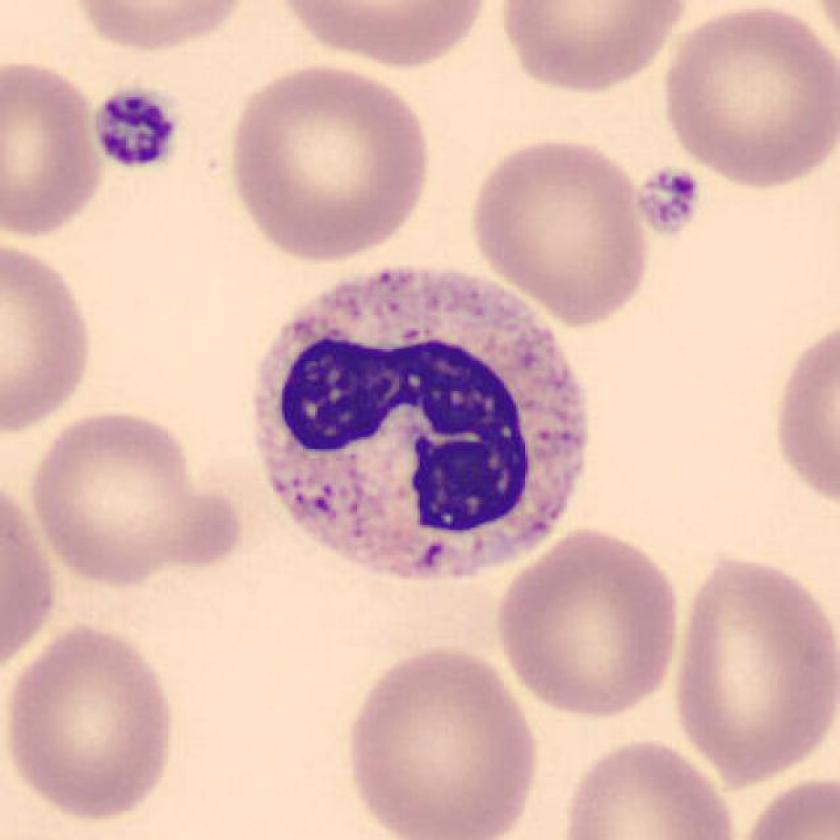neutrophil: (256, 269, 587, 579)
